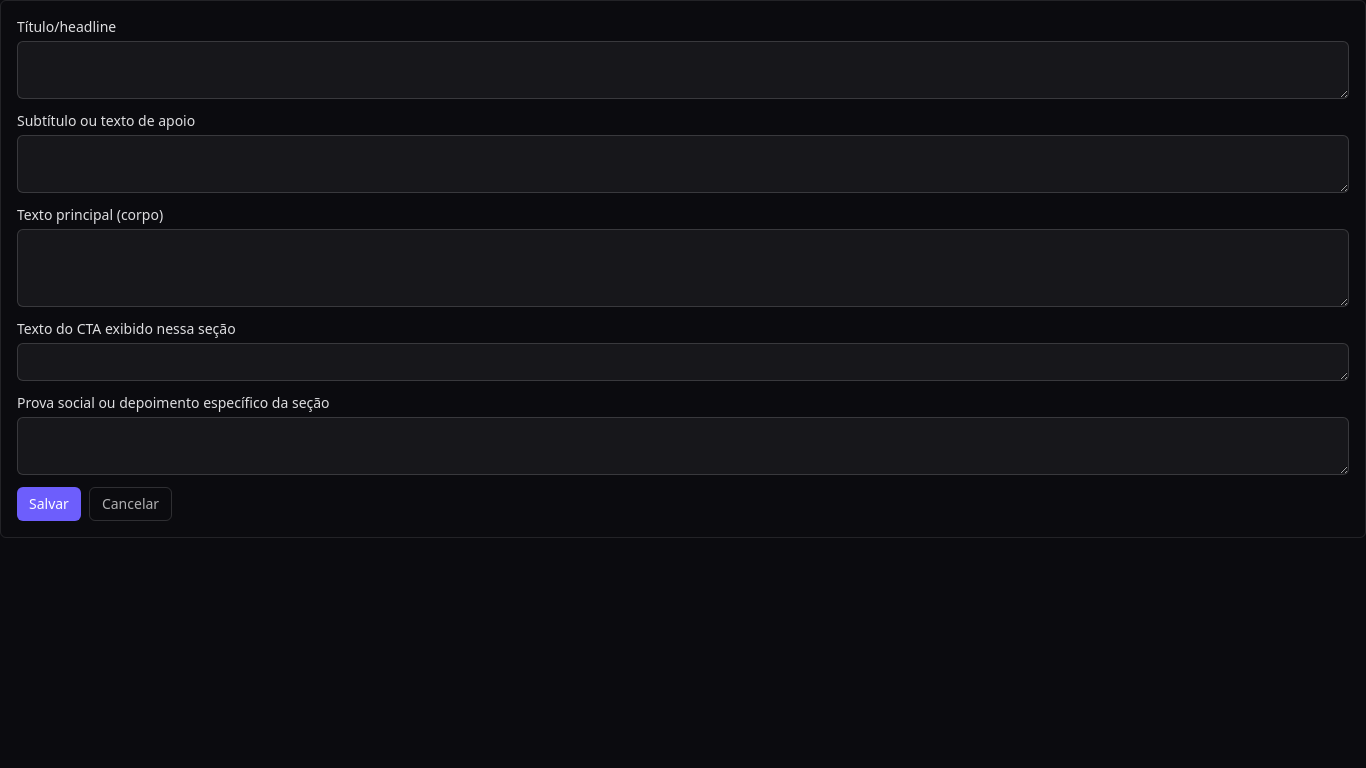
Test: SectionEditForm › shows validation errors returned by the action
Click the button "Salvar" at (49, 504), box [17,487,81,521]
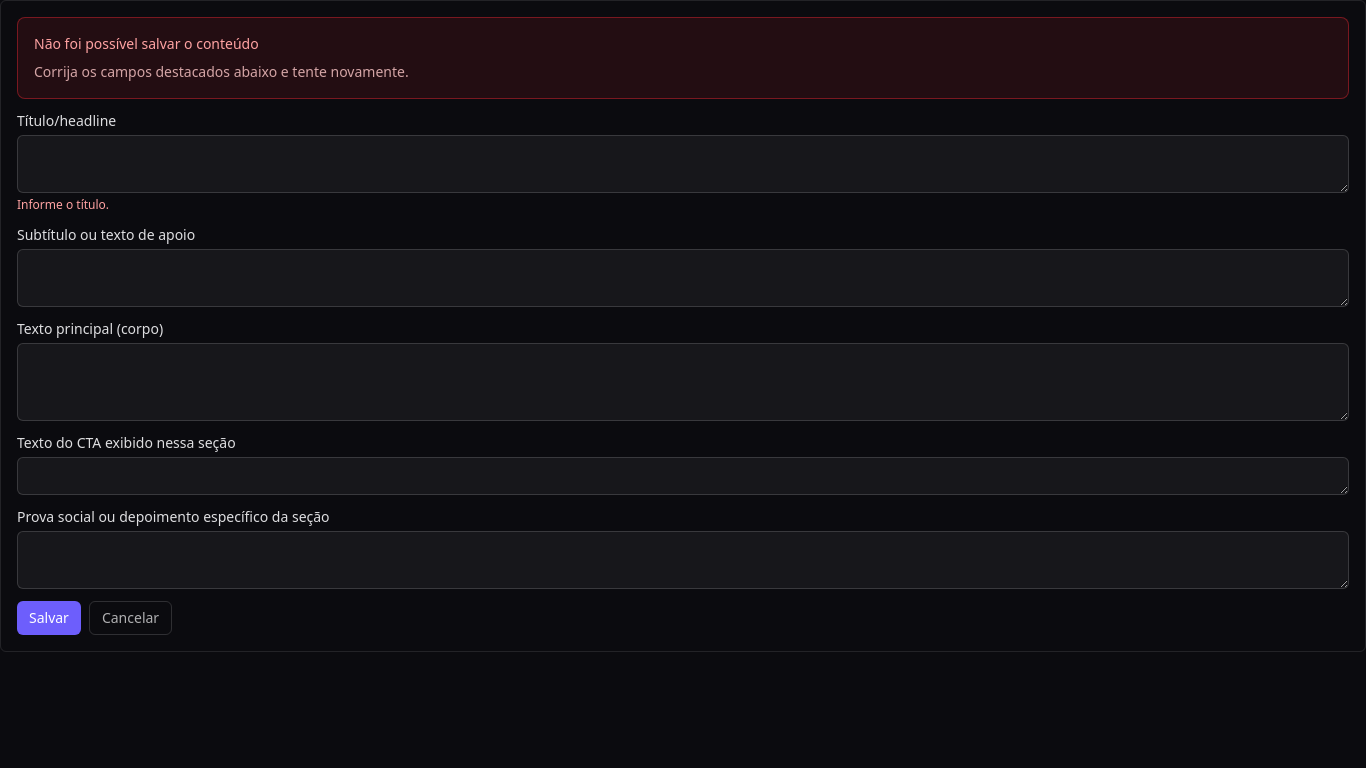
Expected: the message shows "Não foi possível salvar o conteúdo", [34,34,259,53]
